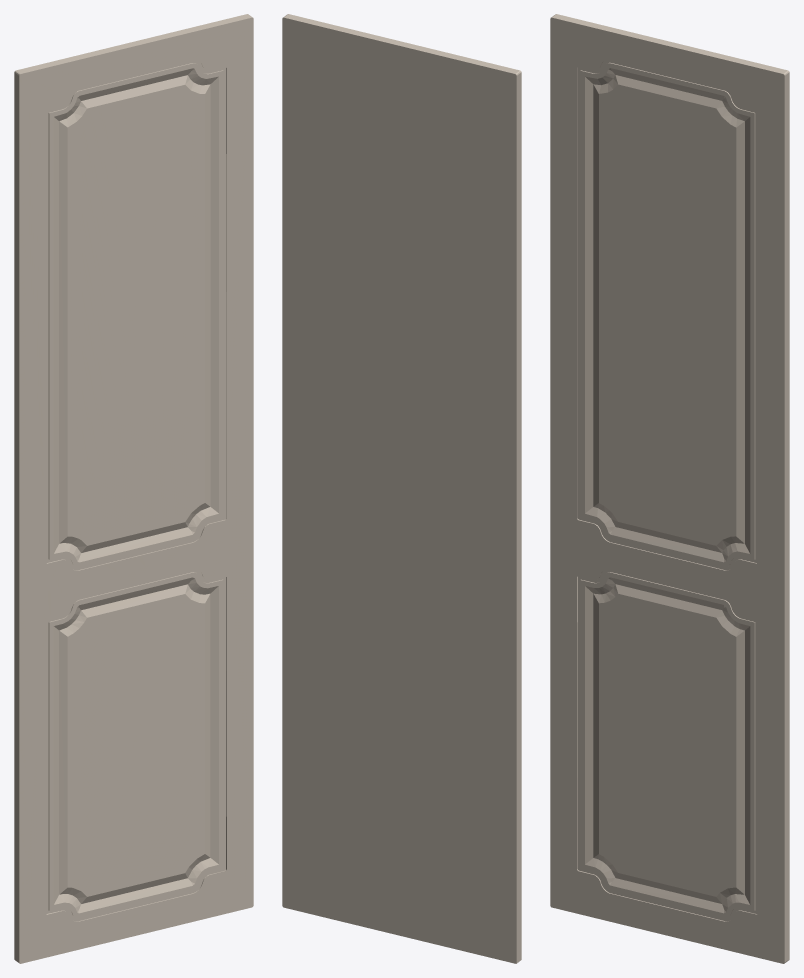
File: nrd-boy-kpk-07.glb
3 views of the same model, side by side, from view 1: azimuth 30°, elevation 25°; view 2: azimuth 150°, elevation 25°; view 3: azimuth 330°, elevation 25° (orthographic).
Visible parts, largest first — view 1: NRD BOY KPK 07; view 2: NRD BOY KPK 07; view 3: NRD BOY KPK 07.
Part boxes in pixels (<box>): NRD BOY KPK 07: <box>14,14,253,963</box>; NRD BOY KPK 07: <box>282,14,521,963</box>; NRD BOY KPK 07: <box>550,14,789,963</box>.
Size of the model in its own units: 0.4959 by 1.8 by 0.018.
